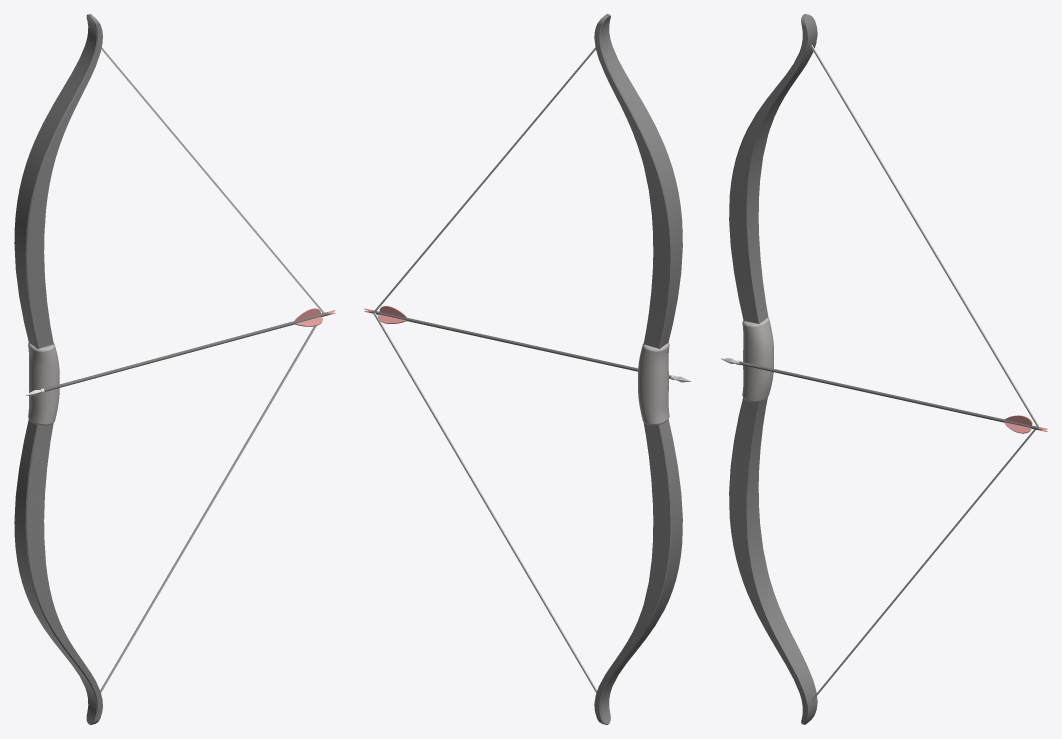
The model's file is 937_bow_and_arrow.glb.
3 views of the same model, side by side, from view 1: azimuth 30°, elevation 25°; view 2: azimuth 150°, elevation 25°; view 3: azimuth 330°, elevation 25° (orthographic).
Visible parts, largest first — view 1: bow, bow2, arrow; view 2: bow, bow2, arrow; view 3: bow, bow2, arrow.
Part boxes in pixels (x1,y1,x2,y2): bow: (14, 14, 102, 724); bow2: (100, 47, 324, 692); arrow: (25, 308, 335, 395); bow: (594, 14, 682, 724); bow2: (373, 47, 597, 692); arrow: (364, 306, 691, 382); bow: (729, 14, 817, 724); bow2: (811, 45, 1038, 701); arrow: (720, 358, 1047, 433).
Size of the model in its own units: 0.6592 by 1.4 by 0.0635.
